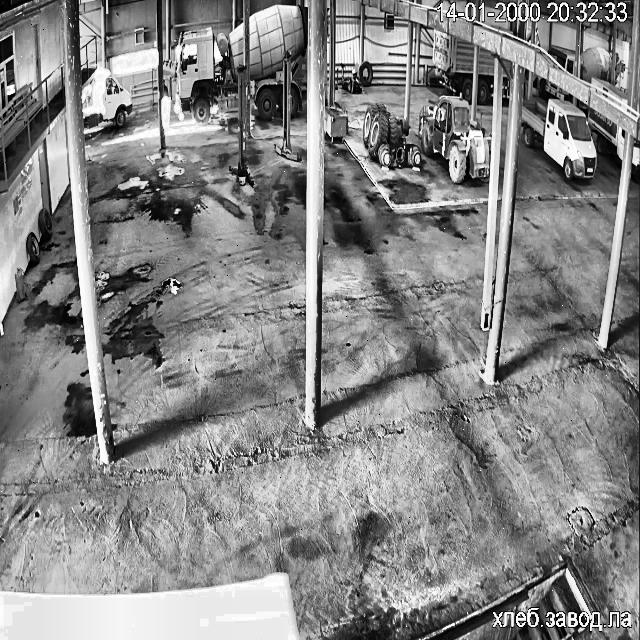class4: (160, 83, 170, 130)
class6: (418, 96, 489, 182), (362, 105, 420, 166)
class7: (164, 25, 244, 123), (249, 4, 306, 117), (521, 100, 596, 180), (432, 28, 473, 100), (81, 68, 132, 125), (588, 108, 624, 157), (580, 46, 610, 81), (476, 48, 494, 103), (592, 78, 628, 102), (548, 46, 574, 74), (535, 77, 570, 97), (500, 60, 510, 97), (632, 140, 640, 174), (616, 130, 624, 161), (616, 53, 623, 76)
truck: (229, 67, 253, 185), (275, 52, 300, 161)
